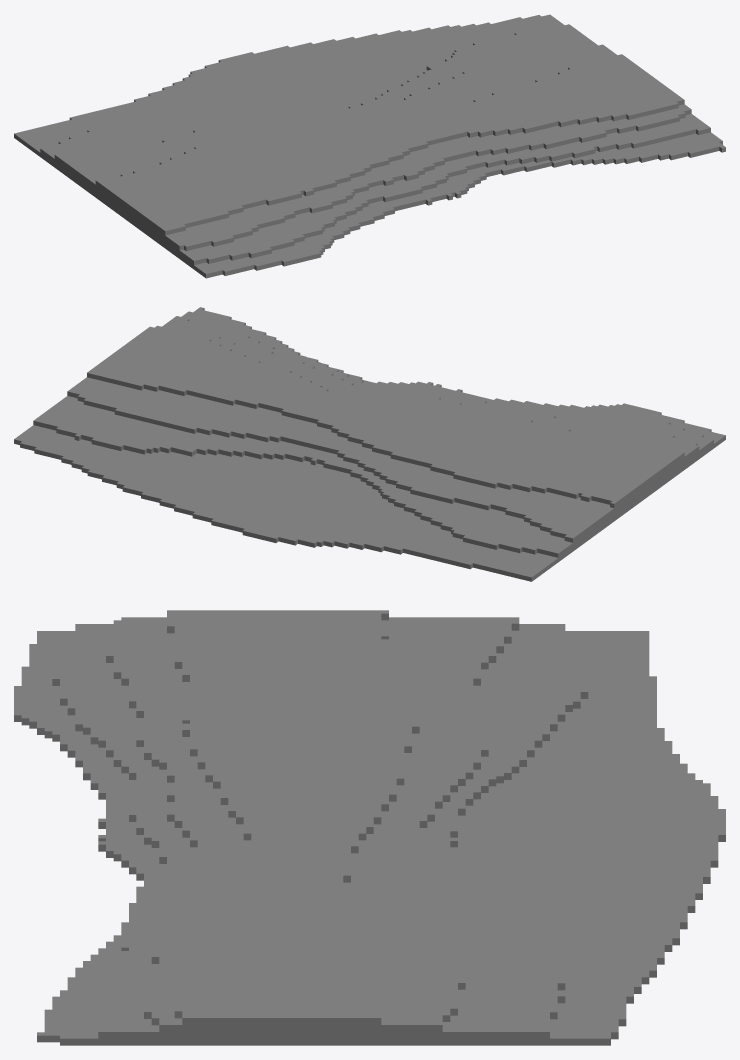
File: Main Island Landscape-1.obj
3 renders of one model, top to bottom at view 1: azimuth 30°, elevation 25°; view 2: azimuth 150°, elevation 25°; view 3: azimuth 270°, elevation 25°, orthographic. The views are drawn at different scales.
Visible parts, largest first — view 1: Main Island Landscape-1; view 2: Main Island Landscape-1; view 3: Main Island Landscape-1.
Part boxes in pixels (x1,y1,x2,y2): Main Island Landscape-1: (14,14,725,278); Main Island Landscape-1: (14,307,725,581); Main Island Landscape-1: (14,610,725,1045).
Bounding box in the file's own units: 126 × 4 × 93.
1 material, 1 textured.
